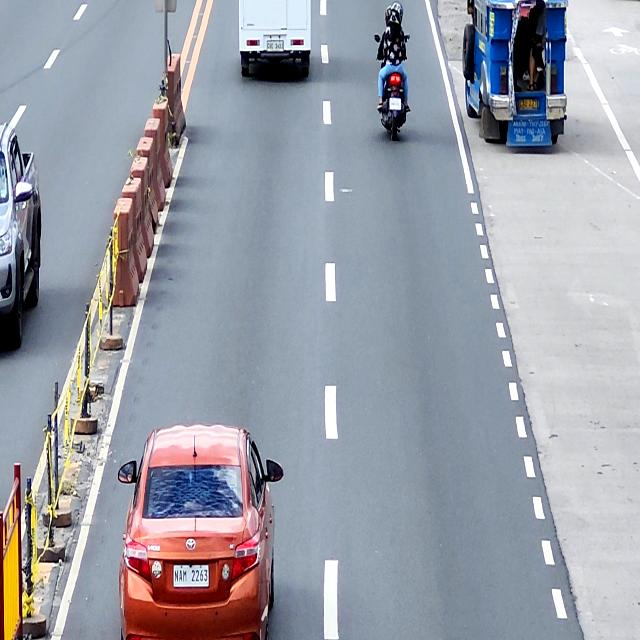Car: (116, 422, 285, 640), (0, 122, 44, 356), (238, 0, 312, 77)
Jeep: (461, 0, 571, 153)
License-Plate: (172, 564, 210, 588), (518, 98, 538, 112), (266, 40, 284, 53), (388, 97, 402, 111)
Motorcycle: (374, 31, 411, 143)
